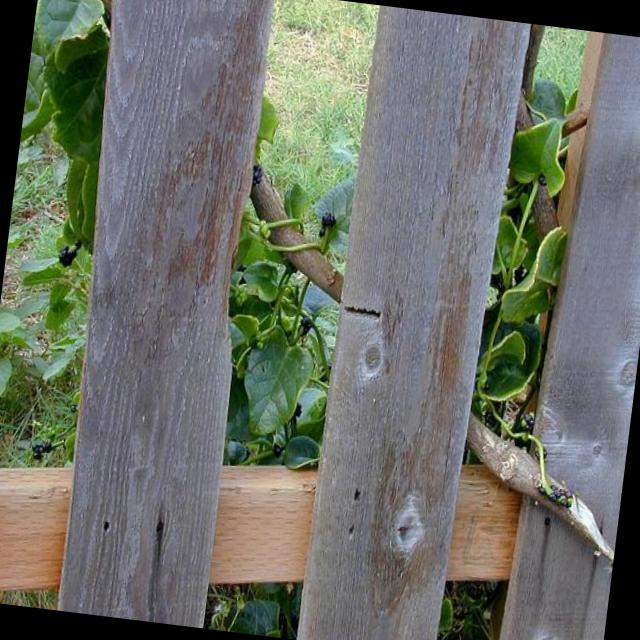Medicinal-Basale: (482, 106, 576, 407), (19, 0, 119, 221), (228, 273, 321, 453)
